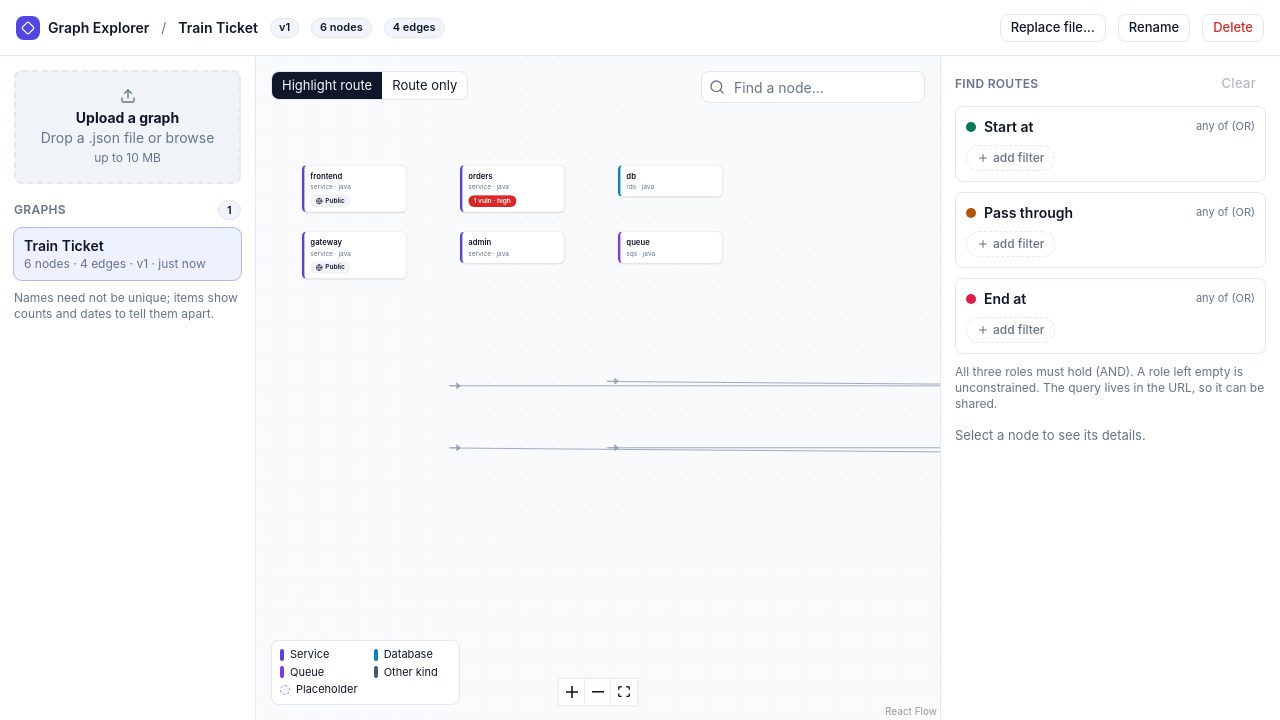
route query › picking filters updates the URL and highlights the route on the whole graph
Expected: the element with test id "node-frontend" is shown, [302, 165, 406, 212]
Step 1. Click the button named "Add filter to \"Start at\"" → click(1011, 158), box [966, 145, 1055, 171]
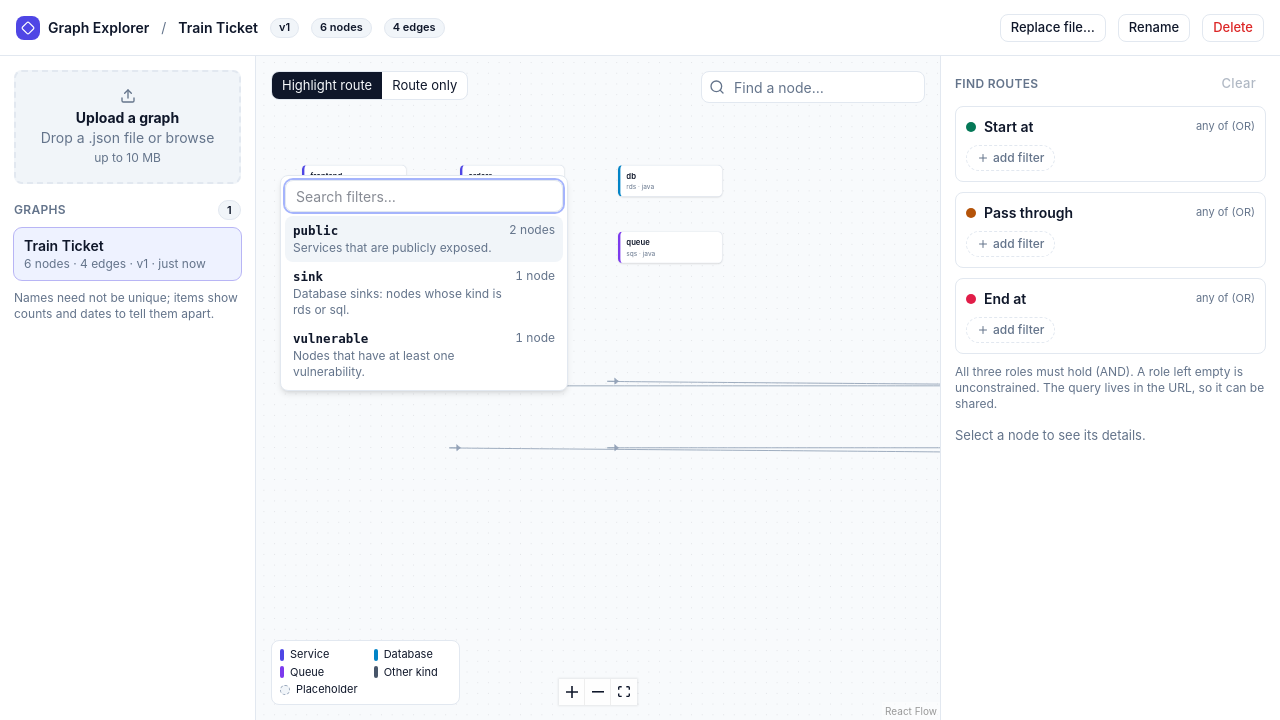
Step 2. Click the option "public Services that are publicly exposed. 2 nodes" → click(424, 239), box [285, 216, 563, 262]
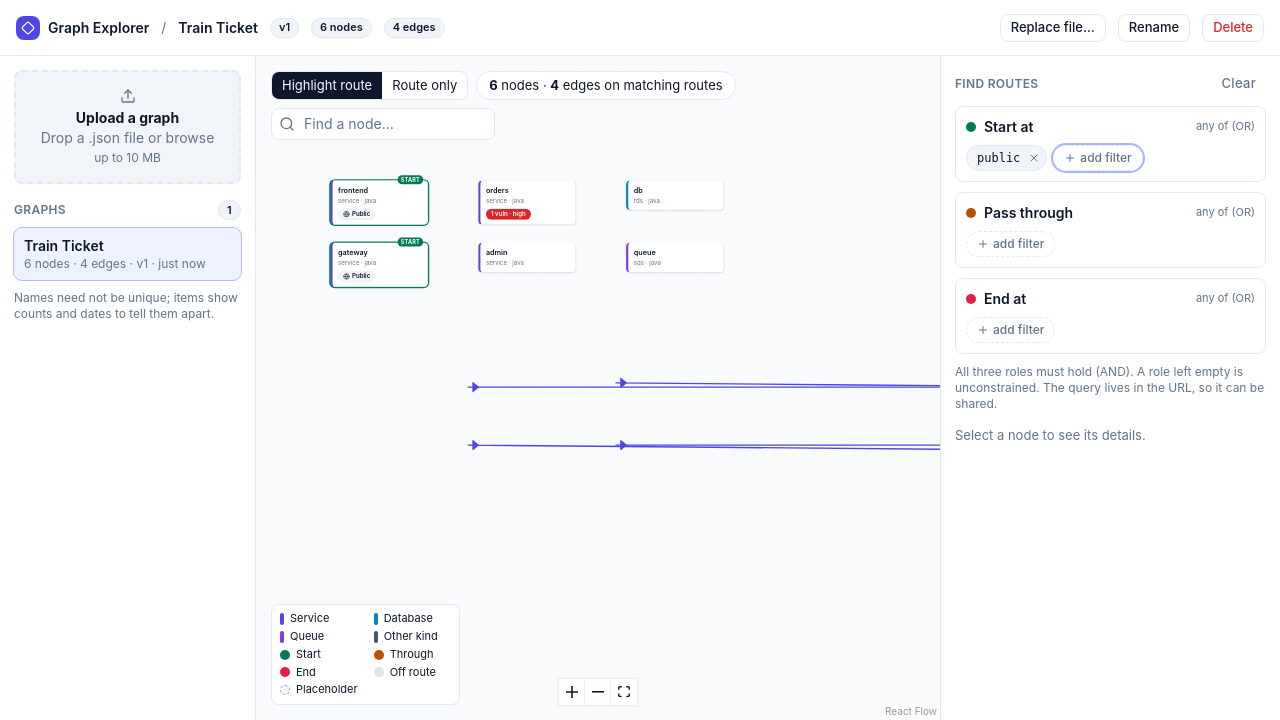
Step 3. Click the button named "Add filter to \"End at\"" → click(1011, 330), box [966, 317, 1055, 343]
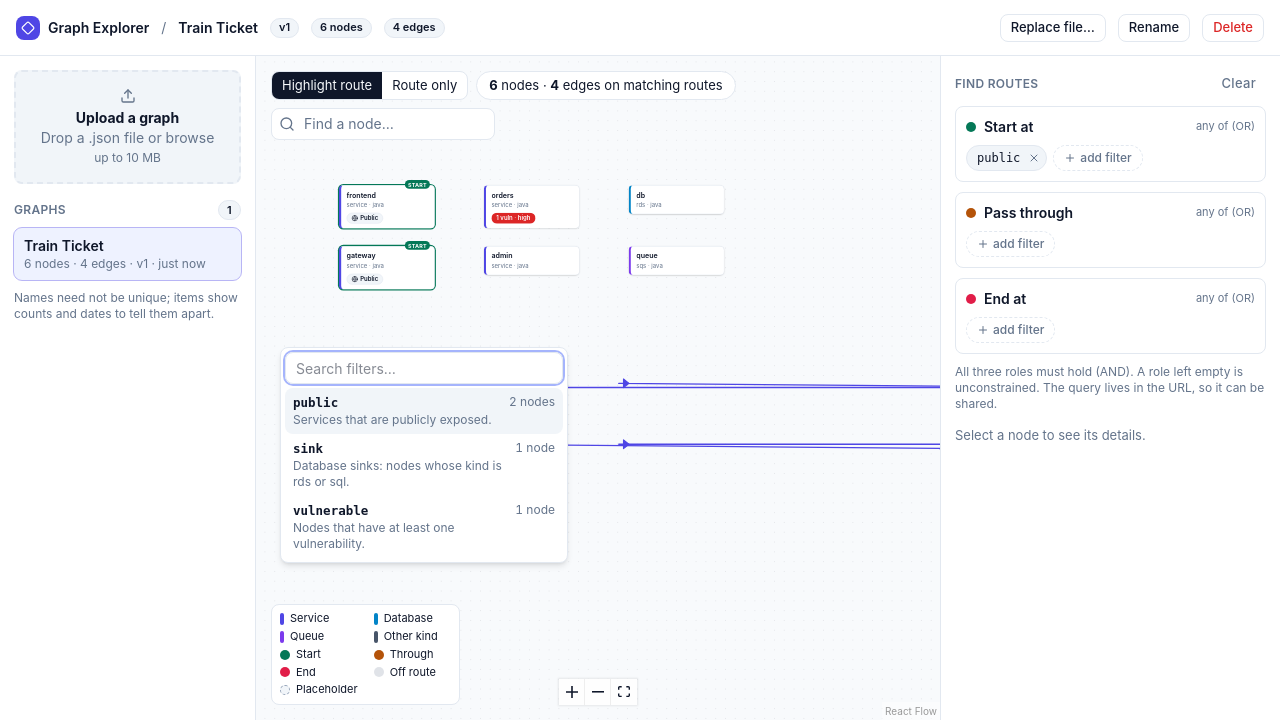
Step 4. Click the option "sink Database sinks: nodes whose kind is rds or sql. 1 node" → click(424, 465), box [285, 434, 563, 496]
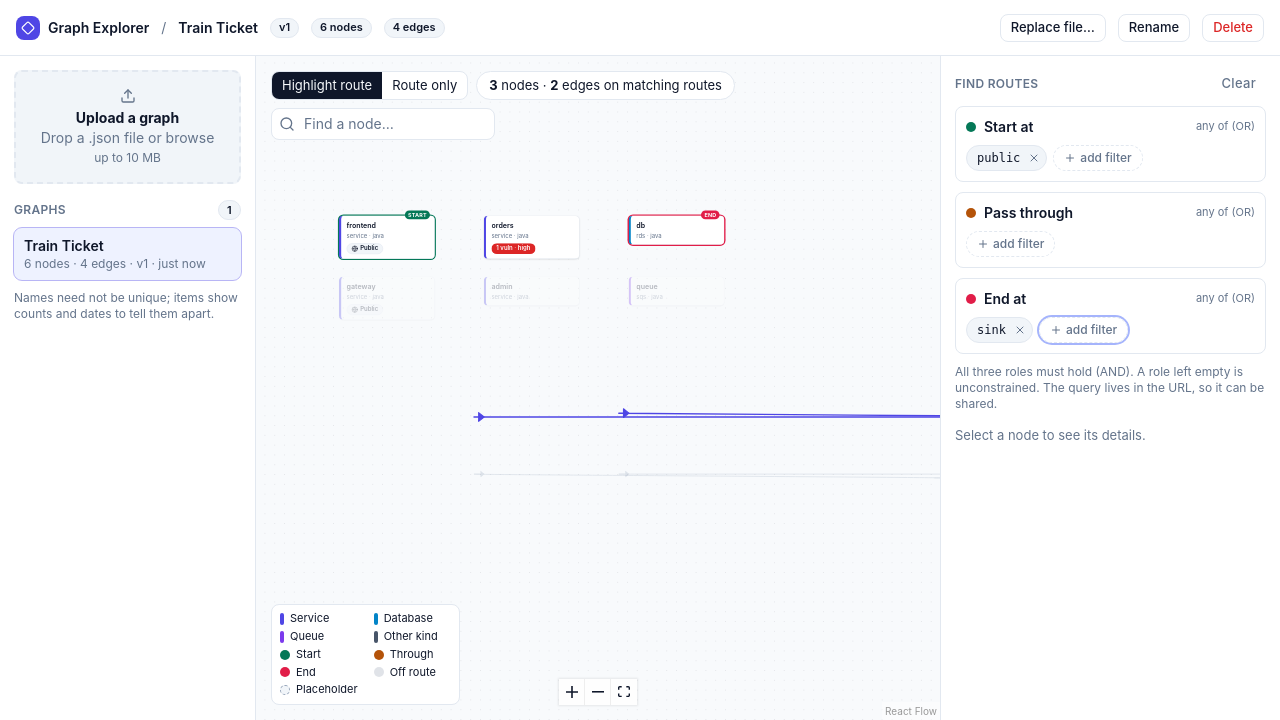
Now the text "START" is shown, box [405, 211, 430, 220]
Now the text "3 nodes · 2 edges on matching routes" is shown, box [476, 71, 735, 100]
Now the text "END" is shown, box [701, 211, 720, 220]
